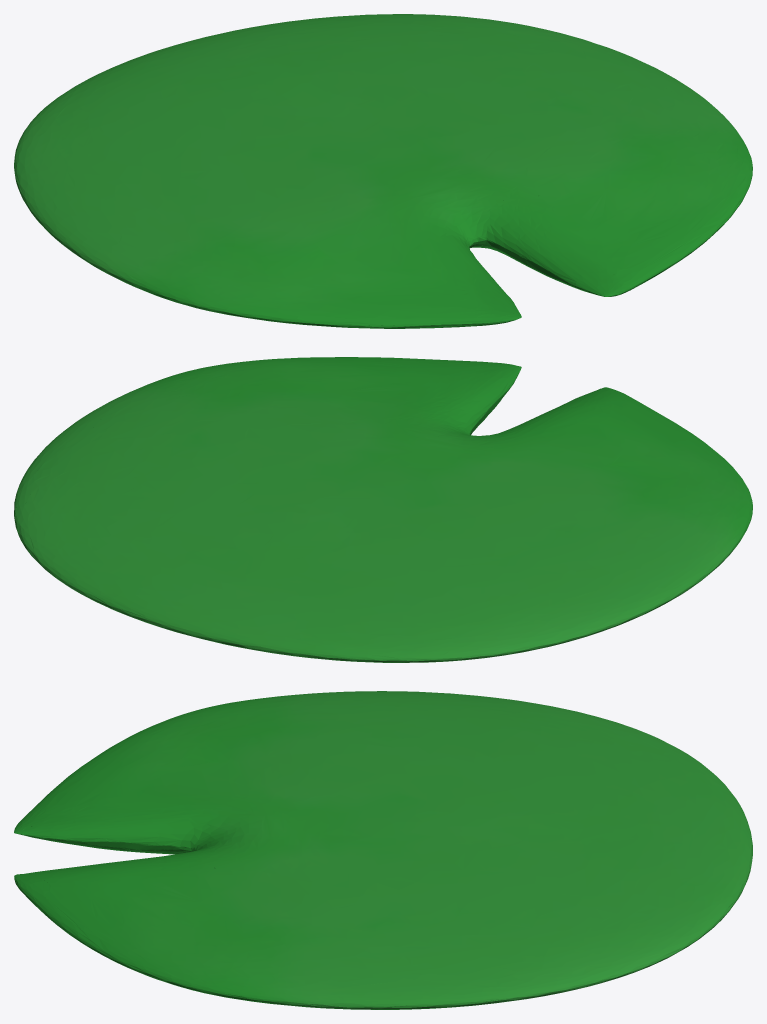
The model's file is lilypad.glb.
3 renders of one model, top to bottom at view 1: azimuth 30°, elevation 25°; view 2: azimuth 150°, elevation 25°; view 3: azimuth 270°, elevation 25°, orthographic. The views are drawn at different scales.
Parts seen in each view (by area): view 1: Quad Sphere split; view 2: Quad Sphere split; view 3: Quad Sphere split.
Part boxes in pixels (bbox=[...]): Quad Sphere split: bbox=[14, 14, 752, 328]; Quad Sphere split: bbox=[14, 357, 752, 662]; Quad Sphere split: bbox=[14, 691, 752, 1009].
Size of the model in its own units: 0.8793 by 0.0629 by 0.8735.
